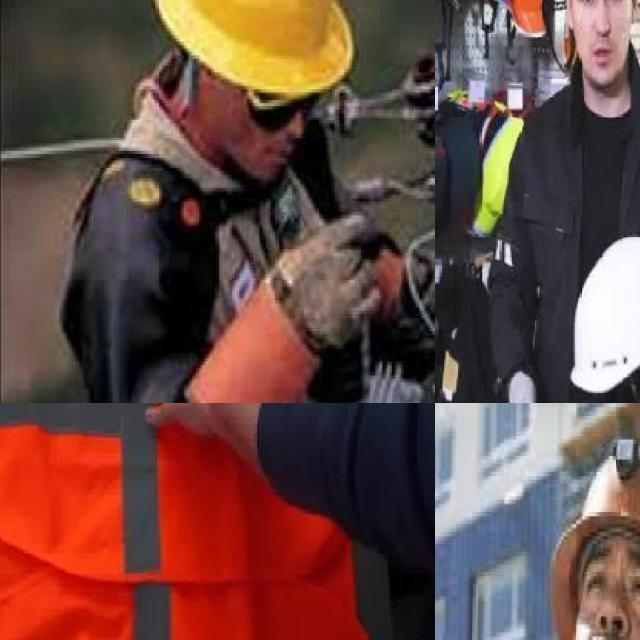apron: (212, 216, 378, 403), (500, 366, 558, 403)
